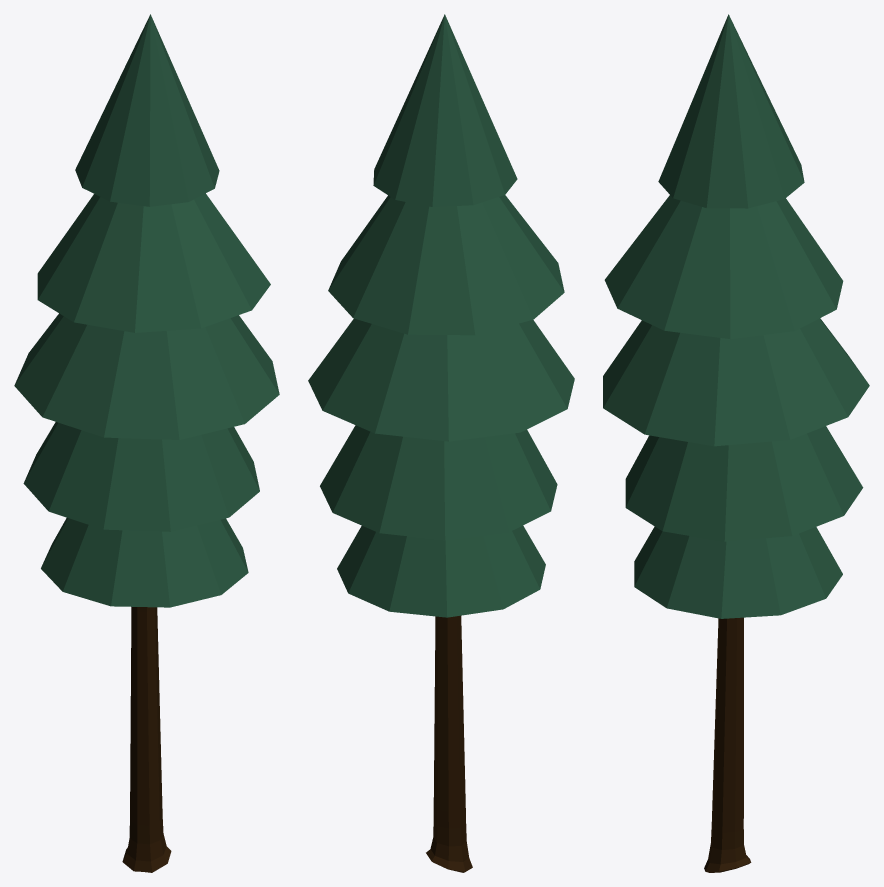
The model's file is LittleELKA).fbx.
3 renders of one model, left to right at view 1: azimuth 30°, elevation 25°; view 2: azimuth 150°, elevation 25°; view 3: azimuth 270°, elevation 25°, orthographic.
Visible parts, largest first — view 1: Cone.009, Cone.010, Cone.008, Cone.011, Cone.007, Cube.002; view 2: Cone.010, Cone.009, Cone.008, Cone.011, Cone.007, Cube.002; view 3: Cone.009, Cone.010, Cone.008, Cone.011, Cone.007, Cube.002.
Boxes of the visible parts, x1,y1,x2,y2 form: Cone.009: [14, 313, 279, 439]; Cone.010: [37, 193, 270, 332]; Cone.008: [23, 422, 259, 531]; Cone.011: [75, 14, 219, 206]; Cone.007: [41, 517, 248, 607]; Cube.002: [122, 607, 171, 872]; Cone.010: [328, 195, 564, 335]; Cone.009: [308, 318, 574, 441]; Cone.008: [320, 425, 557, 540]; Cone.011: [373, 14, 517, 206]; Cone.007: [337, 525, 545, 617]; Cube.002: [426, 615, 472, 872]; Cone.009: [603, 318, 869, 446]; Cone.010: [604, 195, 843, 339]; Cone.008: [625, 426, 863, 541]; Cone.011: [658, 14, 804, 208]; Cone.007: [634, 526, 842, 618]; Cube.002: [704, 617, 751, 872].
Bounding box in the file's own units: 21.49 × 75.77 × 21.26.
